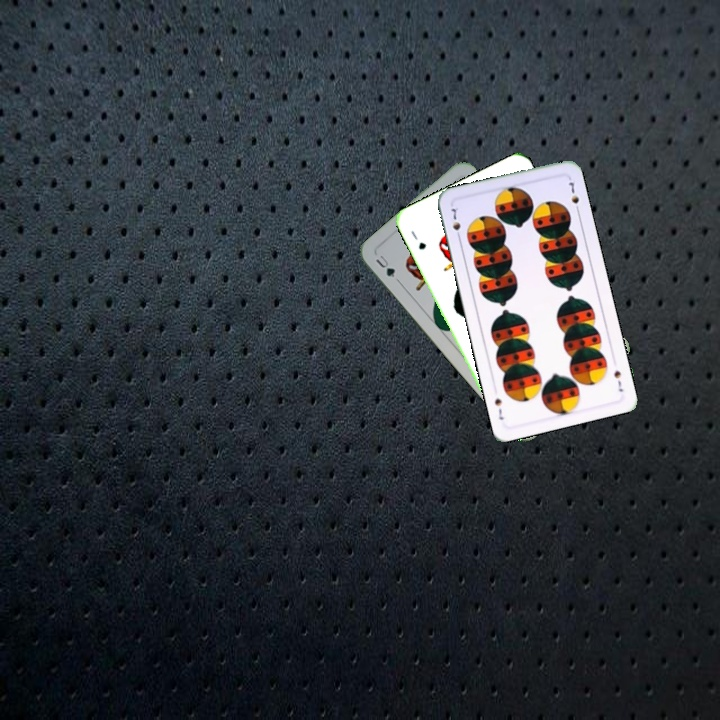GU: (371, 251, 398, 280), (407, 227, 429, 252)
S7: (447, 202, 463, 242), (610, 366, 626, 394)
